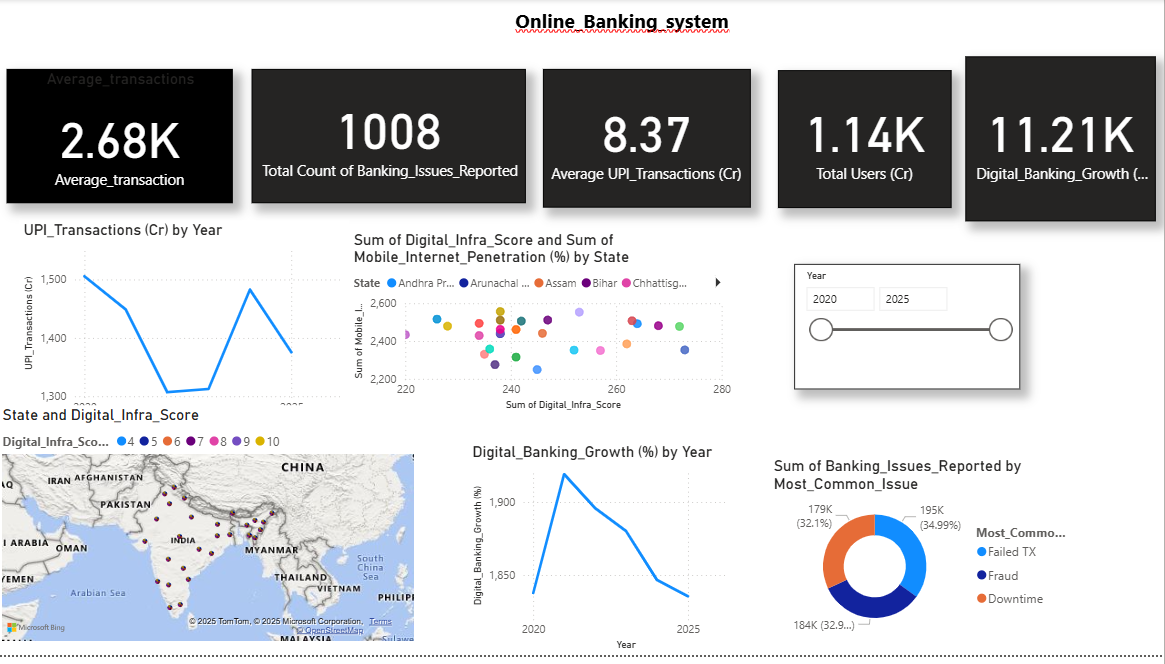

What the dashboard file says about the page in this screenshot:
{"tool":"powerbi","page":{"name":"Page 1","canvas":[1280,720],"ordinal":0},"visuals":[{"type":"card","title":"Average_transactions","fields":{"Values":["Avg(India_Online_Banking_2020_2025_Detailed (1).Average_Transaction_Value (₹))"]},"box":[9.6,76.8,248.4,146.8],"z":0},{"type":"card","fields":{"Values":["CountNonNull(India_Online_Banking_2020_2025_Detailed (1).Banking_Issues_Reported)"]},"box":[278.6,76.8,300.5,146.8],"z":1000},{"type":"card","fields":{"Values":["Avg(India_Online_Banking_2020_2025_Detailed (1).UPI_Transactions (Cr))"]},"box":[598.3,76.8,227.8,152.3],"z":2000},{"type":"card","fields":{"Values":["Sum(India_Online_Banking_2020_2025_Detailed (1).Digital_Banking_Growth (%))"]},"box":[1062.1,63.1,208.6,181.1],"z":3000},{"type":"card","fields":{"Values":["India_Online_Banking_2020_2025_Detailed (1).Total Users (Cr)"]},"box":[856.3,78.2,190.7,150.9],"z":4000},{"type":"lineChart","fields":{"Category":["India_Online_Banking_2020_2025_Detailed (1).Year"],"Y":["Sum(India_Online_Banking_2020_2025_Detailed (1).UPI_Transactions (Cr))"]},"box":[23.3,242.9,362.3,233.3],"z":5000},{"type":"lineChart","fields":{"Category":["India_Online_Banking_2020_2025_Detailed (1).Year"],"Y":["Sum(India_Online_Banking_2020_2025_Detailed (1).Digital_Banking_Growth (%))"]},"box":[516,487.1,293.7,233.3],"z":6000},{"type":"donutChart","fields":{"Category":["India_Online_Banking_2020_2025_Detailed (1).Most_Common_Issue"],"Y":["Sum(India_Online_Banking_2020_2025_Detailed (1).Banking_Issues_Reported)"]},"box":[846.7,502.2,338.9,203.1],"z":7000},{"type":"scatterChart","fields":{"X":["Sum(India_Online_Banking_2020_2025_Detailed (1).Digital_Infra_Score)"],"Y":["Sum(India_Online_Banking_2020_2025_Detailed (1).Mobile_Internet_Penetration (%))"],"Series":["India_Online_Banking_2020_2025_Detailed (1).State"]},"box":[385.6,253.9,424,203.1],"z":8000},{"type":"slicer","fields":{"Values":["India_Online_Banking_2020_2025_Detailed (1).Year"]},"box":[874.1,290.9,248.4,137.2],"z":9000},{"type":"map","fields":{"Category":["India_Online_Banking_2020_2025_Detailed (1).State"],"Series":["India_Online_Banking_2020_2025_Detailed (1).Digital_Infra_Score"]},"box":[0,446,462.4,263.5],"z":10000},{"type":"textbox","box":[337.6,19.2,698.5,43.9],"z":10001}]}

Visuals, with their boxes in screenshot pixels (x1, y1, x2, y2), scaled from the page's 1280x720 canvas onto the 1165x664 screenshot:
"Average_transactions" card: x1=9, y1=71, x2=235, y2=206
card - CountNonNull(India_Online_Banking_2020_2025_Detailed (1).Banking_Issues_Reported): x1=254, y1=71, x2=527, y2=206
card - Avg(India_Online_Banking_2020_2025_Detailed (1).UPI_Transactions (Cr)): x1=545, y1=71, x2=752, y2=211
card - Sum(India_Online_Banking_2020_2025_Detailed (1).Digital_Banking_Growth (%)): x1=967, y1=58, x2=1157, y2=225
card - India_Online_Banking_2020_2025_Detailed (1).Total Users (Cr): x1=779, y1=72, x2=953, y2=211
lineChart - India_Online_Banking_2020_2025_Detailed (1).Year x Sum(India_Online_Banking_2020_2025_Detailed (1).UPI_Transactions (Cr)): x1=21, y1=224, x2=351, y2=439
lineChart - India_Online_Banking_2020_2025_Detailed (1).Year x Sum(India_Online_Banking_2020_2025_Detailed (1).Digital_Banking_Growth (%)): x1=470, y1=449, x2=737, y2=663
donutChart - India_Online_Banking_2020_2025_Detailed (1).Most_Common_Issue x Sum(India_Online_Banking_2020_2025_Detailed (1).Banking_Issues_Reported): x1=771, y1=463, x2=1079, y2=650
scatterChart - Sum(India_Online_Banking_2020_2025_Detailed (1).Digital_Infra_Score) x Sum(India_Online_Banking_2020_2025_Detailed (1).Mobile_Internet_Penetration (%)): x1=351, y1=234, x2=737, y2=421
slicer - India_Online_Banking_2020_2025_Detailed (1).Year: x1=796, y1=268, x2=1022, y2=395
map - India_Online_Banking_2020_2025_Detailed (1).State x India_Online_Banking_2020_2025_Detailed (1).Digital_Infra_Score: x1=0, y1=411, x2=421, y2=654
textbox: x1=307, y1=18, x2=943, y2=58
